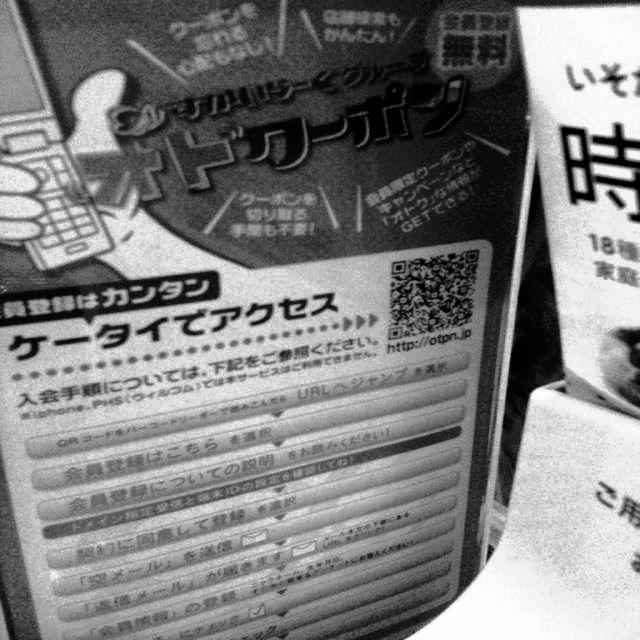qr_code: (388, 249, 479, 341)
